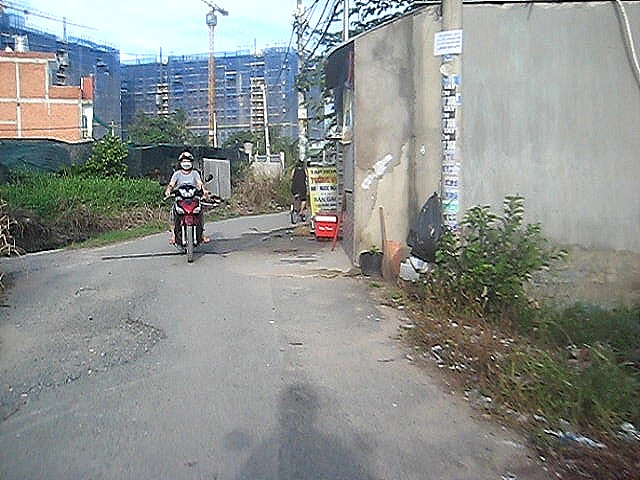hole: (1, 281, 169, 423), (270, 247, 299, 255)
